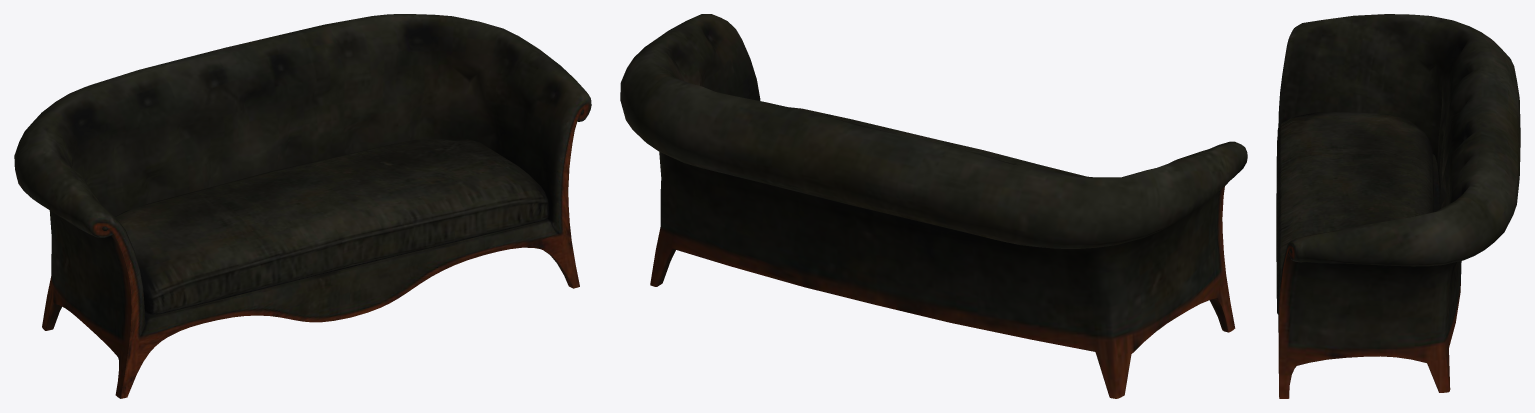
File: detail.fbx
3 renders of one model, left to right at view 1: azimuth 30°, elevation 25°; view 2: azimuth 150°, elevation 25°; view 3: azimuth 270°, elevation 25°, orthographic. The views are drawn at different scales.
Visible parts, largest first — view 1: sofa_02_Base, sofa_02_Seat; view 2: sofa_02_Base, sofa_02_Seat; view 3: sofa_02_Base, sofa_02_Seat.
Part boxes in pixels (x1,y1,x2,y2): sofa_02_Base: (14,14,591,398); sofa_02_Seat: (115,139,549,314); sofa_02_Base: (620,14,1247,398); sofa_02_Seat: (789,107,1086,176); sofa_02_Base: (1278,14,1520,398); sofa_02_Seat: (1276,112,1433,314).
Bounding box in the file's own units: 181 × 70.95 × 81.78.
